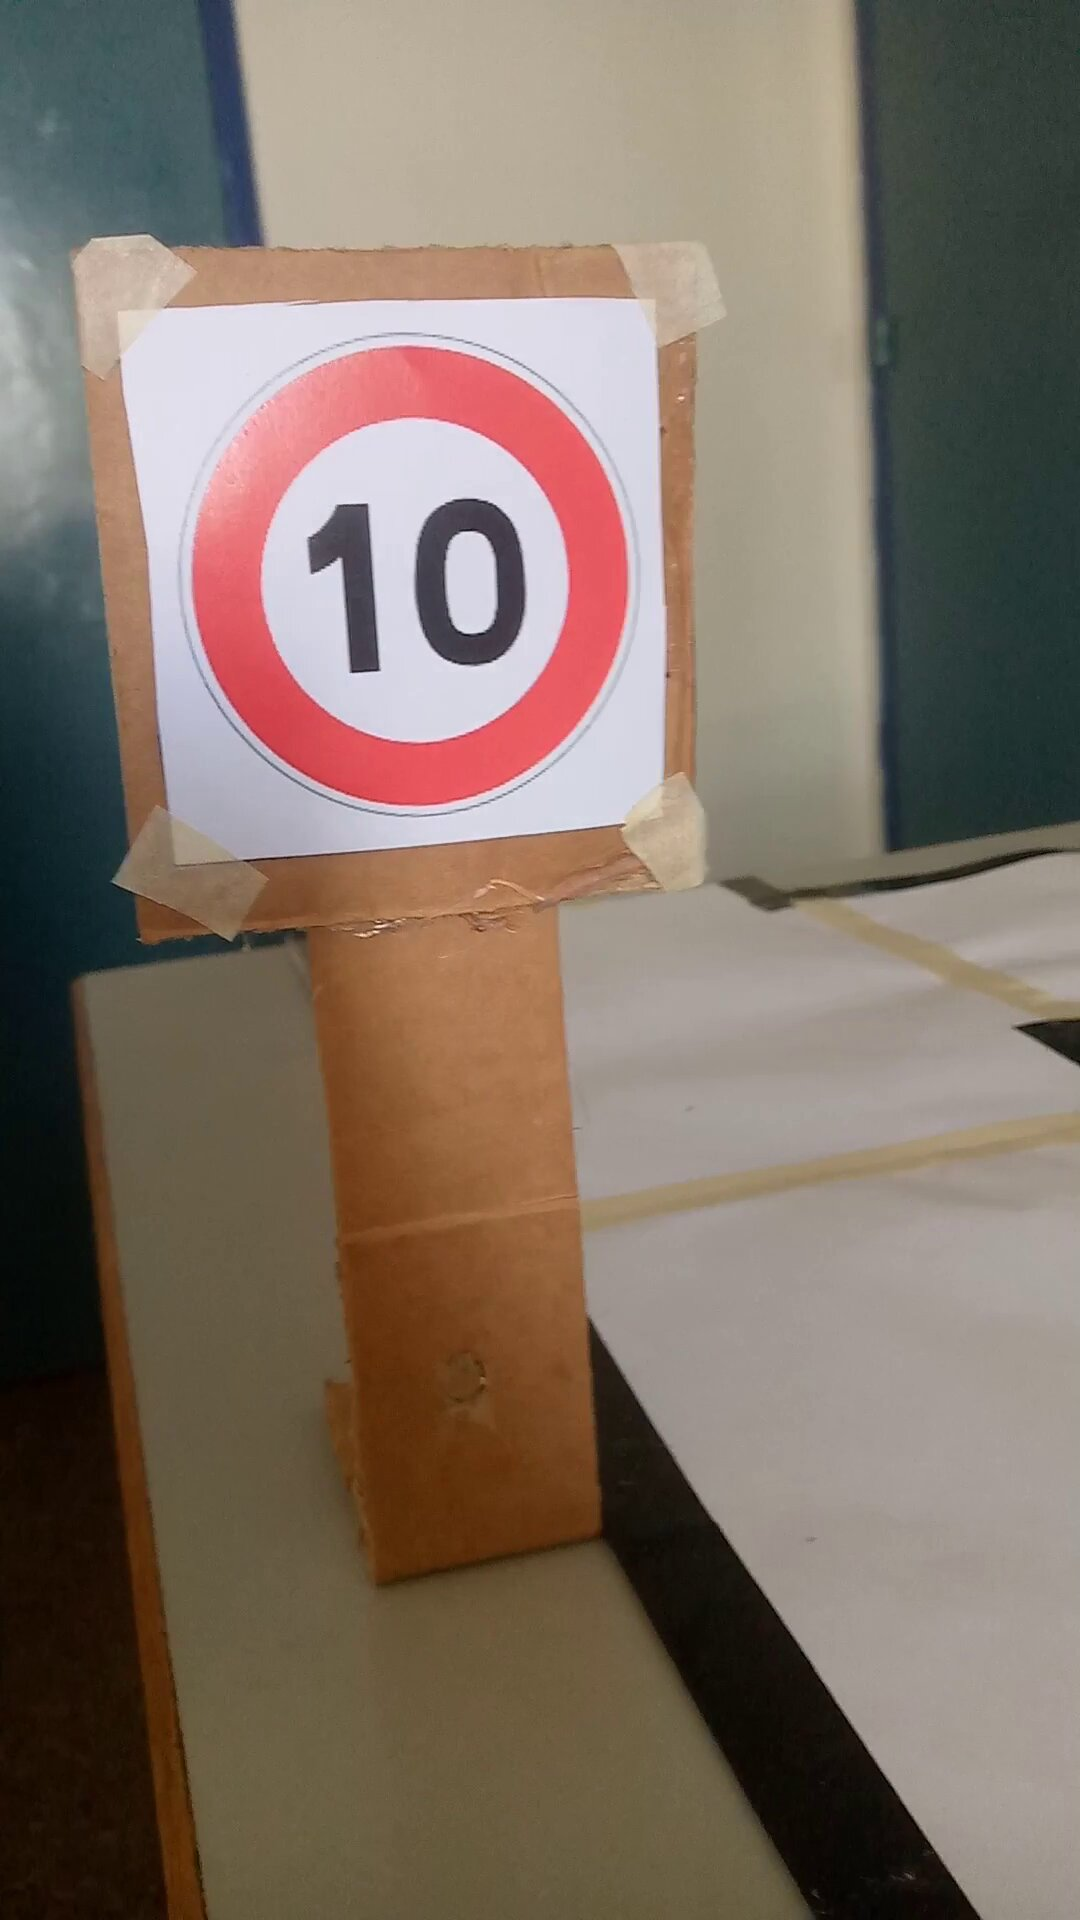panel011: (107, 286, 665, 843)
